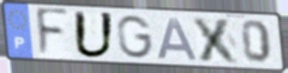0: (239, 18, 273, 66)
A: (156, 16, 201, 62)
F: (34, 7, 71, 60)
G: (115, 14, 155, 60)
U: (72, 9, 116, 60)
X: (190, 16, 242, 65)
